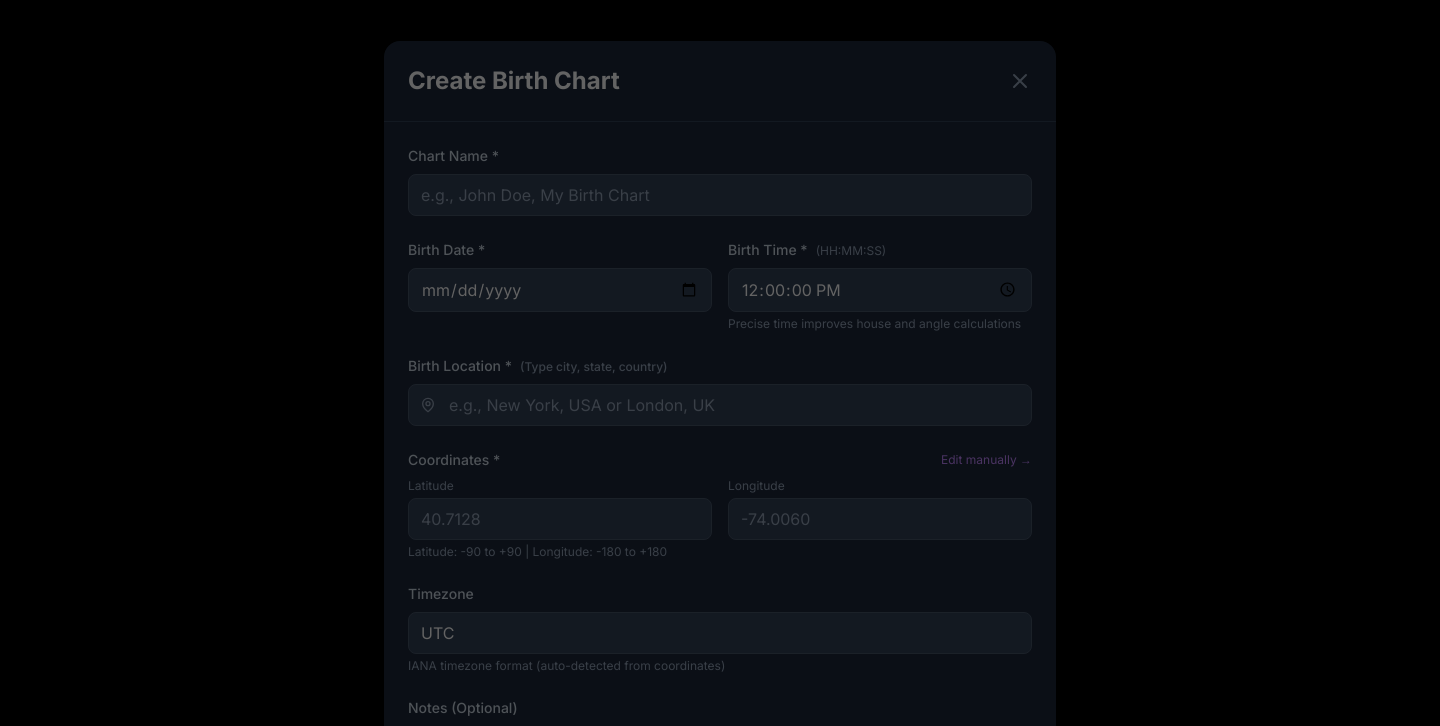
Test: BirthChartForm - Geocoding Integration › Location Search › should show "no results" message when search returns empty
Type "XYZ123" into the field with placeholder "e.g., New York, USA or London, UK" at {"x": 720, "y": 404}, box x1=408 y1=384 x2=1032 y2=426
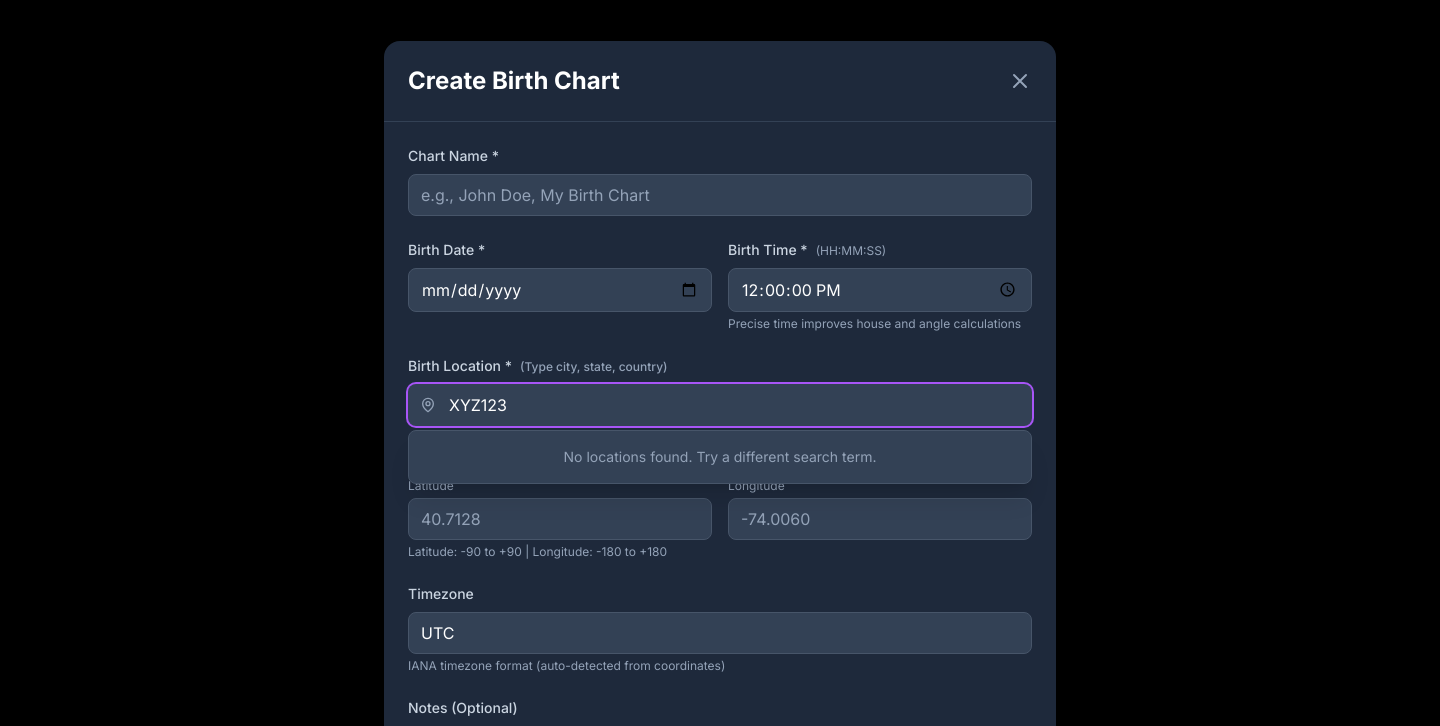
Expected: the text "No locations found. Try a different search term." is shown, x1=408 y1=430 x2=1032 y2=484
